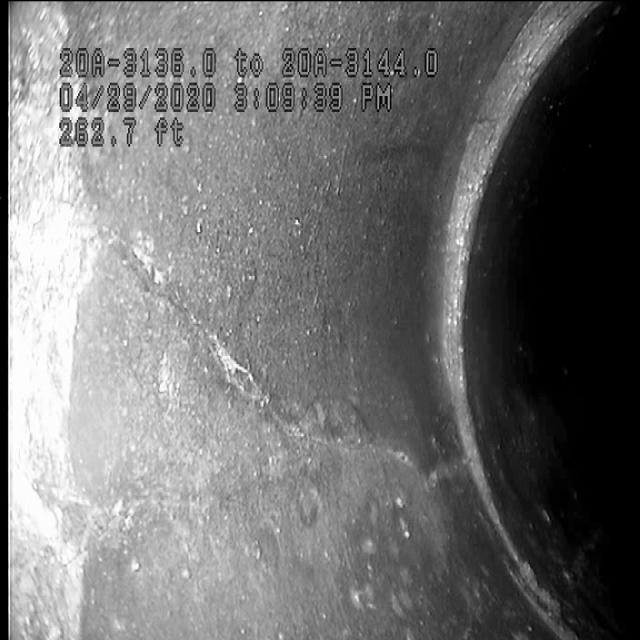Crack: (152, 250, 372, 474)
